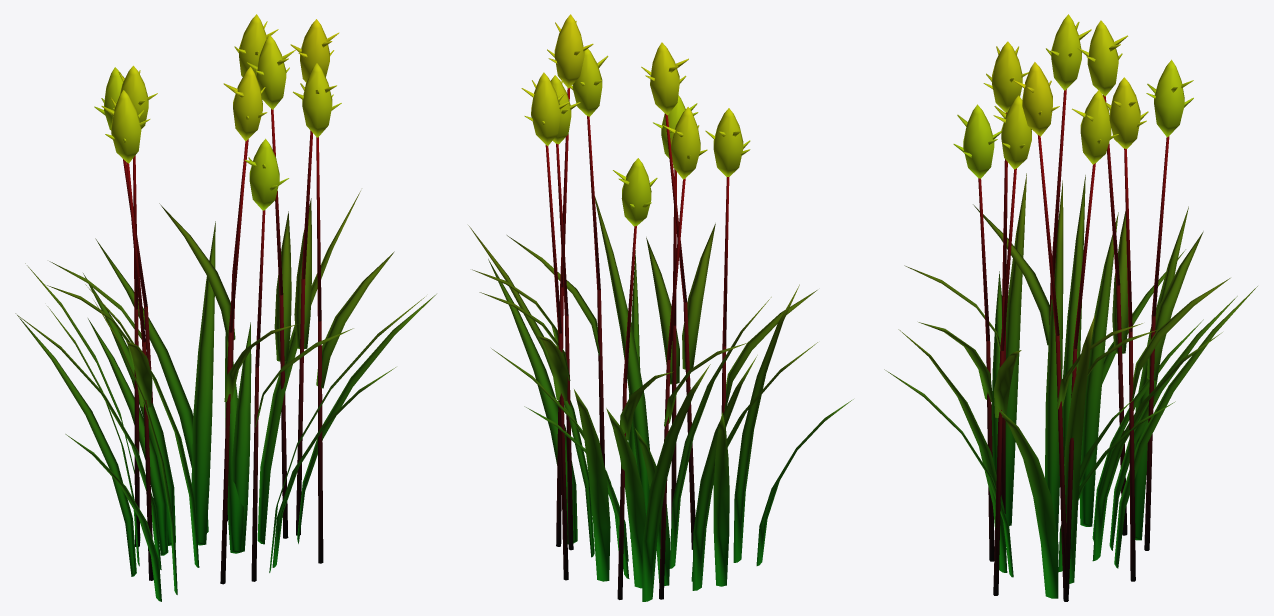
The model's file is SM_MeadowReed.fbx.
3 views of the same model, side by side, from view 1: azimuth 30°, elevation 25°; view 2: azimuth 150°, elevation 25°; view 3: azimuth 270°, elevation 25° (orthographic). The views are drawn at different scales.
Parts seen in each view (by area): view 1: SM_MeadowReed; view 2: SM_MeadowReed; view 3: SM_MeadowReed.
Boxes of the visible parts, x1,y1,x2,y2 form: SM_MeadowReed: (15,14,436,601); SM_MeadowReed: (468,14,853,601); SM_MeadowReed: (884,14,1257,601).
Size of the model in its own units: 129 by 108 by 171.
